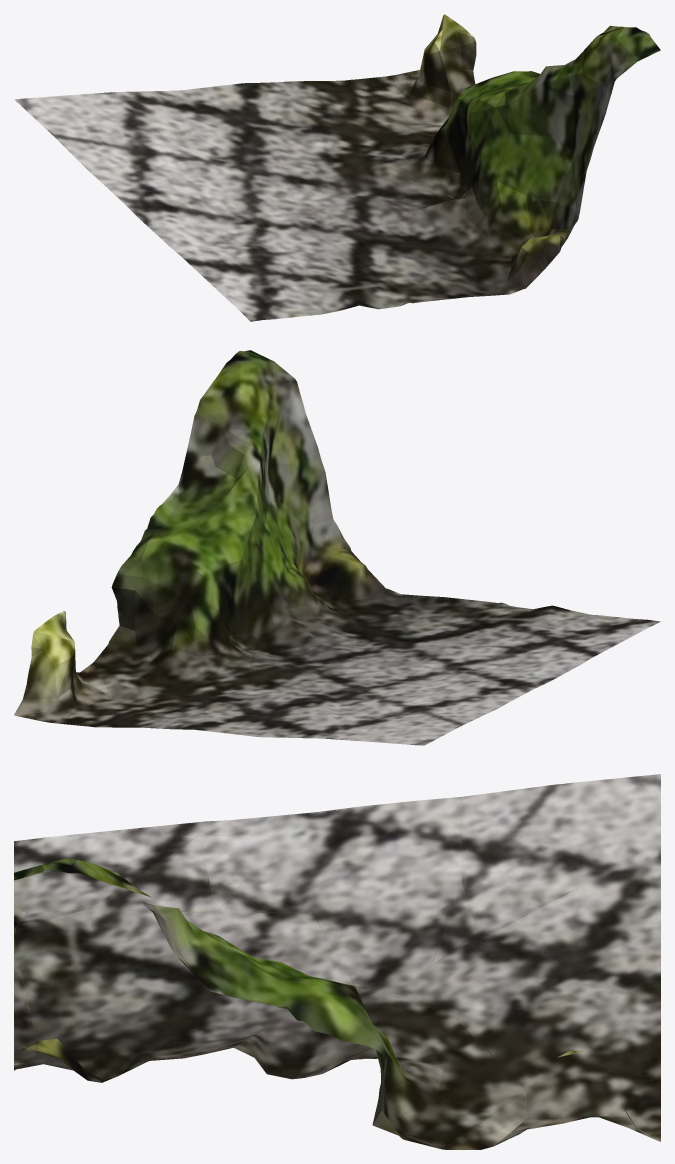
3 views of the same model, one above another, from view 1: azimuth 30°, elevation 25°; view 2: azimuth 150°, elevation 25°; view 3: azimuth 270°, elevation 25° (orthographic). The views are drawn at different scales.
Size of the model in its own units: 1.67 by 0.8419 by 1.67.
Materials: 3 (3 with a texture image).
